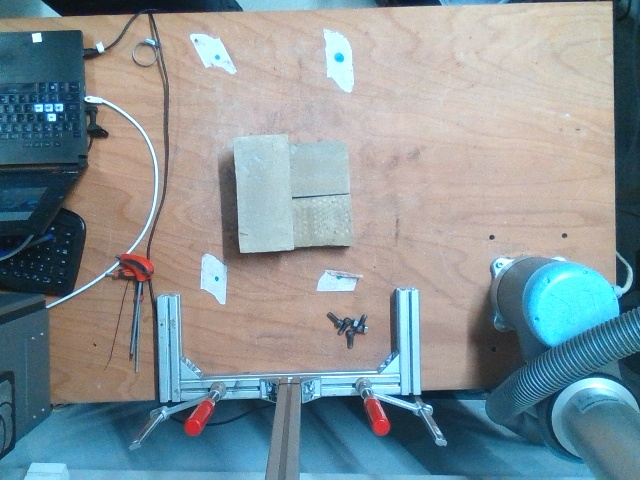brick: (229, 133, 293, 249)
